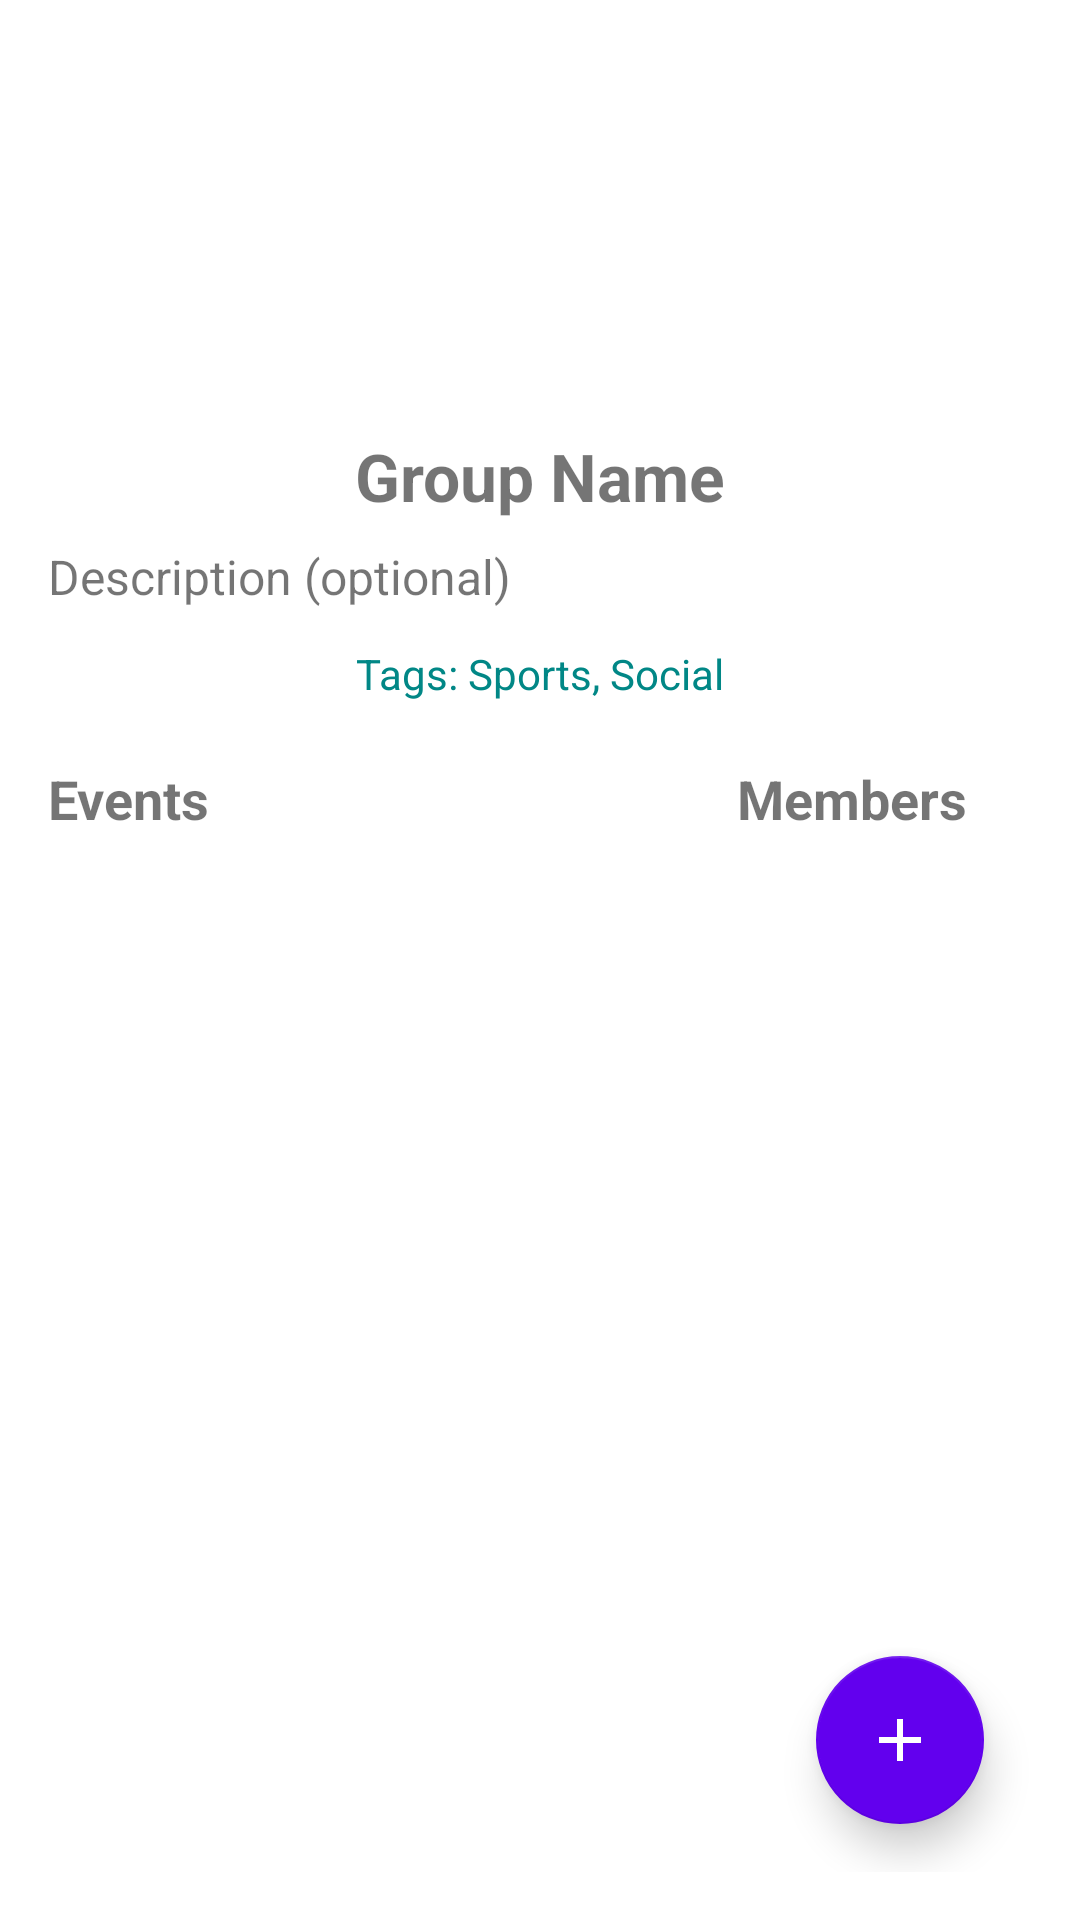

Named icons in this screenshot (1080×1920) and their bounding boxes, (x1, y1, x2, y2):
Create Event: (816, 1656, 984, 1824)
